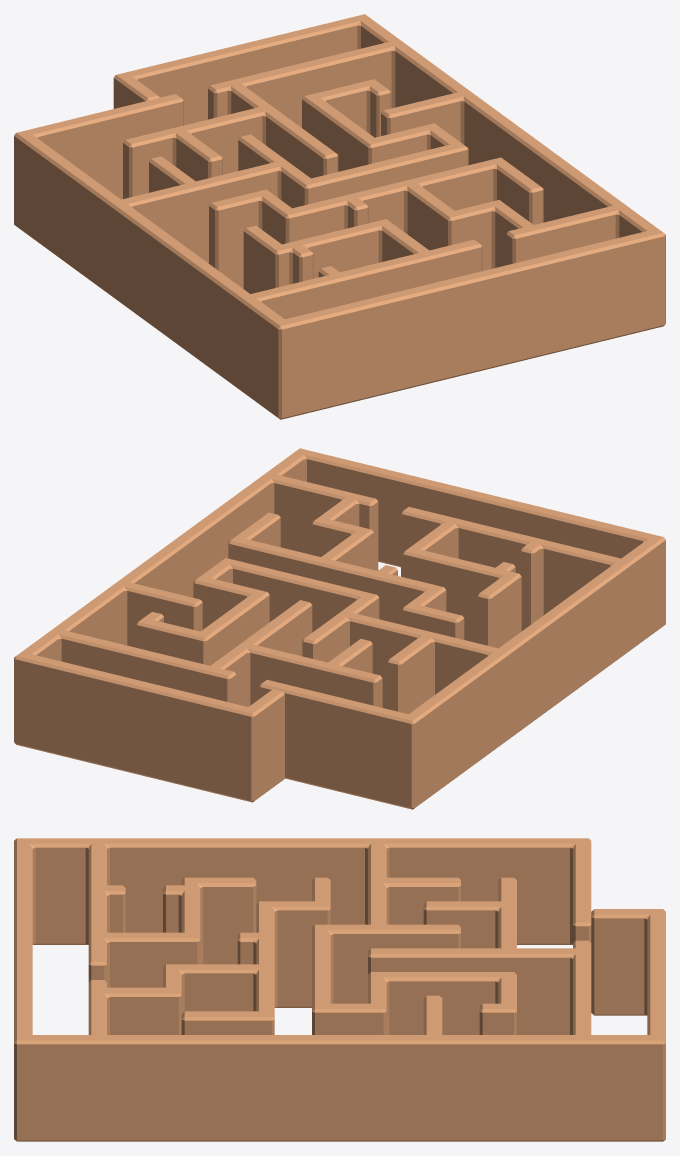
Rendered from walls.fbx.
The picture shows the model from 3 angles, top to bottom: view 1: azimuth 30°, elevation 25°; view 2: azimuth 150°, elevation 25°; view 3: azimuth 270°, elevation 25°; orthographic projection. The views are drawn at different scales.
Visible parts, largest first — view 1: Plane; view 2: Plane; view 3: Plane.
Boxes of the visible parts, left/top/right/bottom form: Plane: left=14, top=14, right=665, bottom=419; Plane: left=14, top=448, right=665, bottom=809; Plane: left=14, top=838, right=665, bottom=1141.
Size of the model in its own units: 2600 by 600 by 3500.
